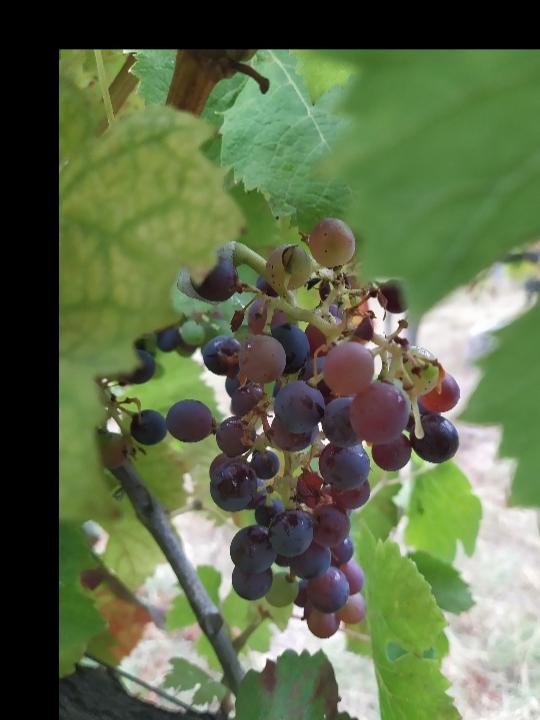grape: (128, 212, 467, 644)
